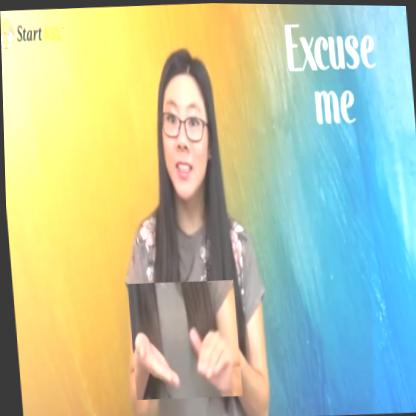ExcuseMe: (125, 278, 240, 400)
